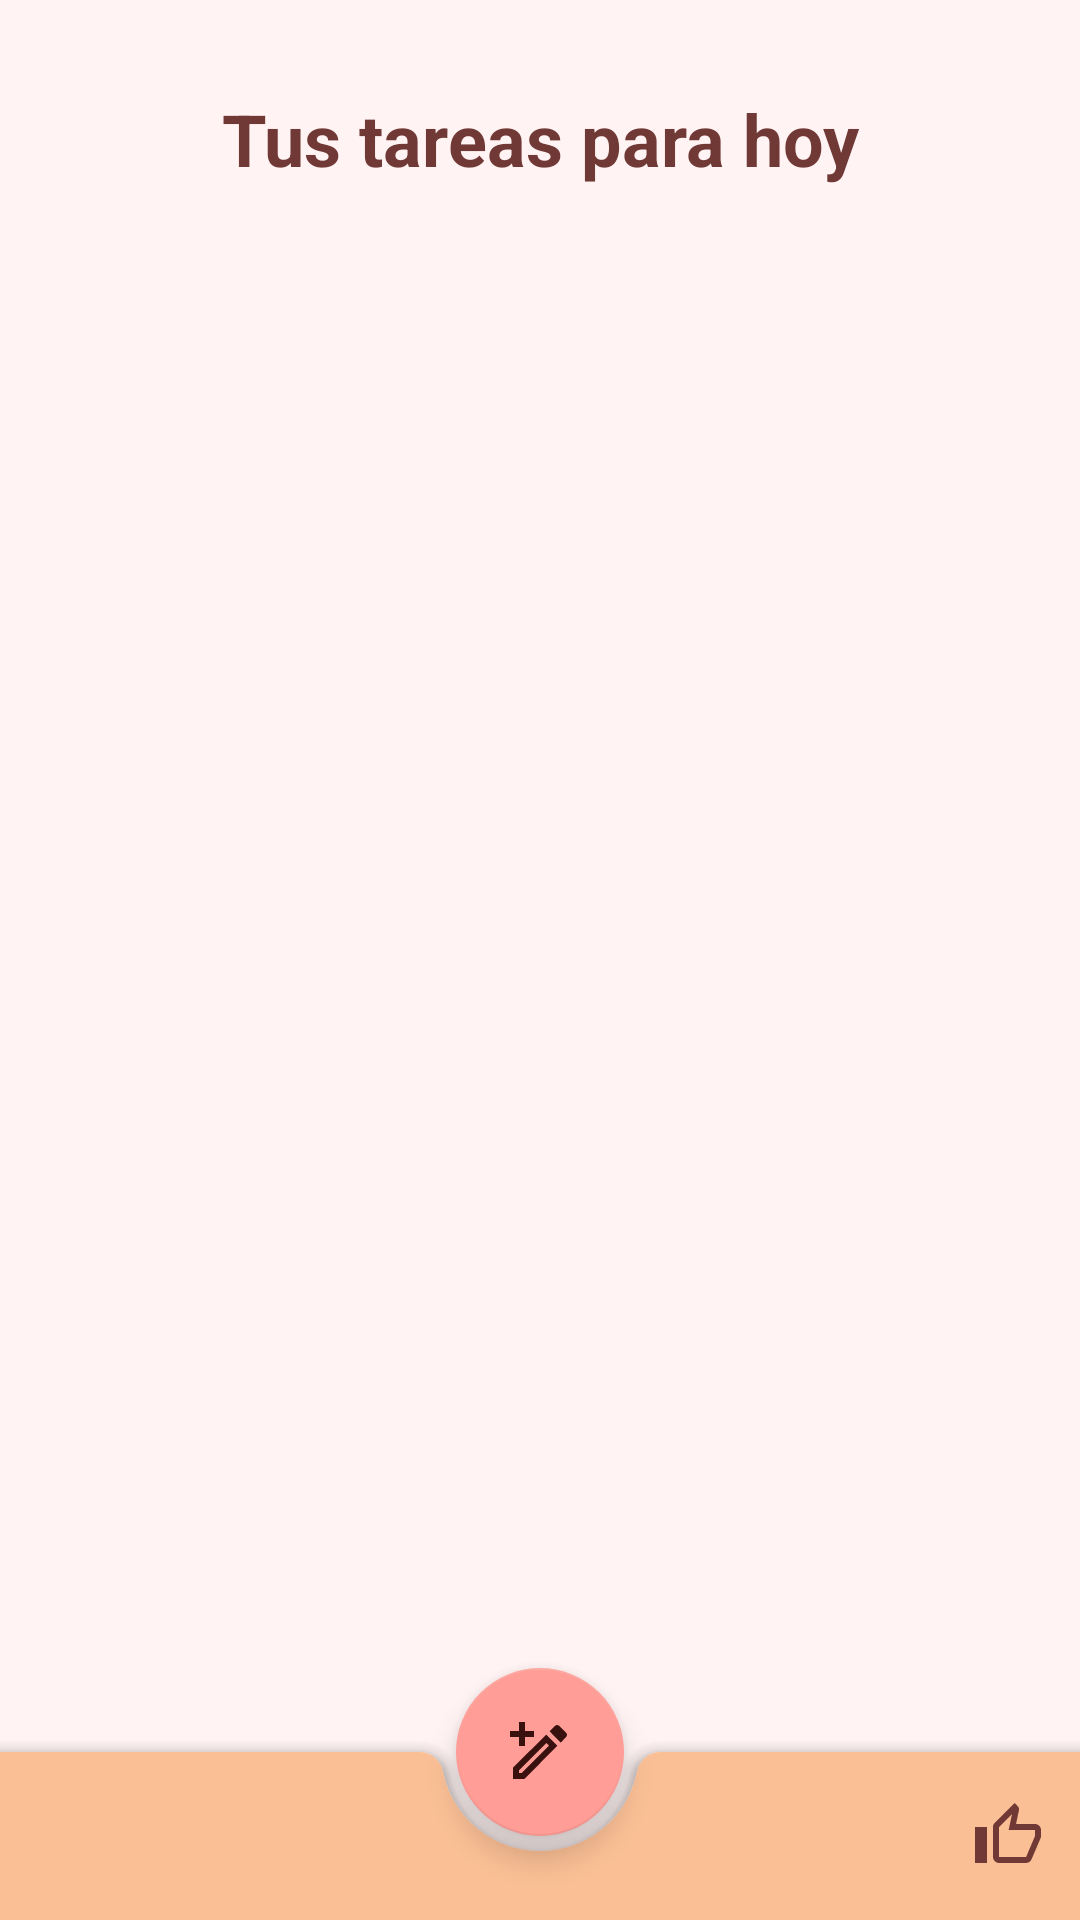

Point at icon controls on the screen. Image size 1080*1920, points as point (x, y).
add: point (540, 1752)
